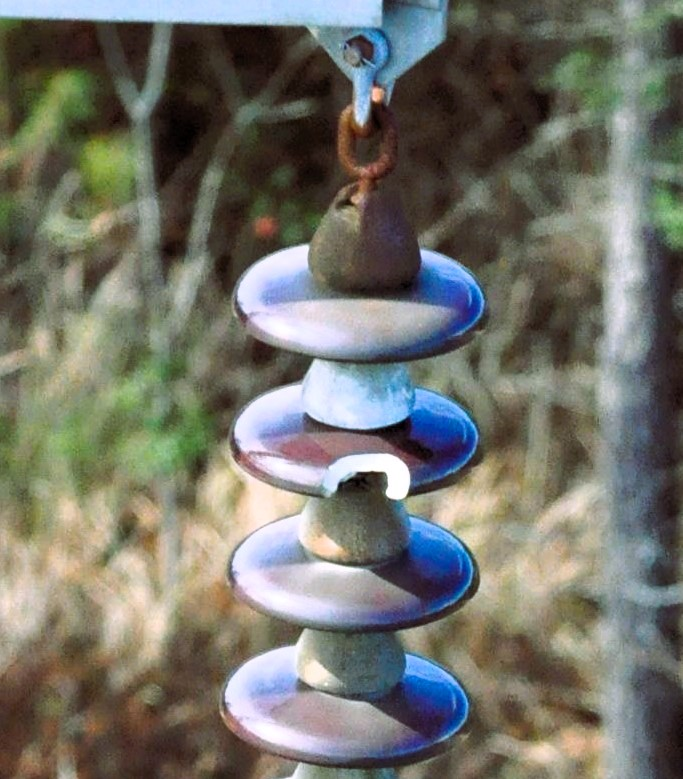insulator breakage: (227, 393, 488, 506)
